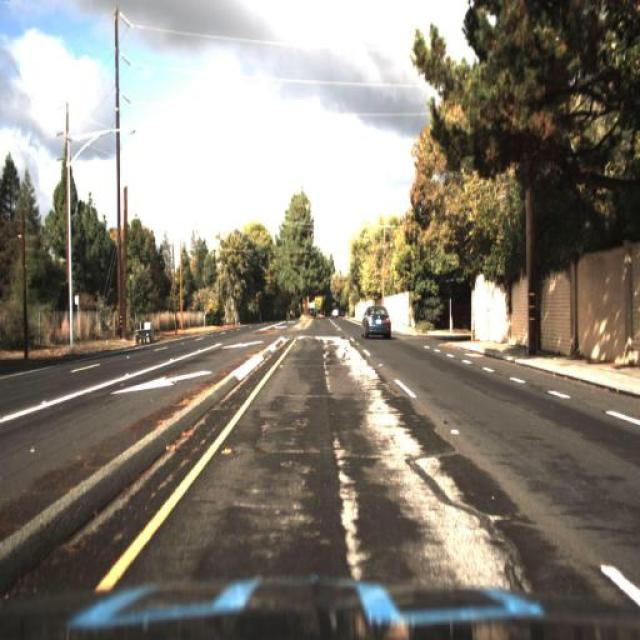car: (357, 301, 394, 343)
